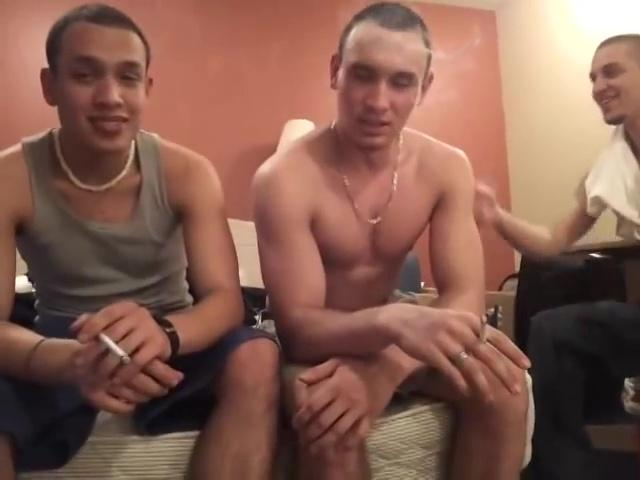cigarette: (96, 330, 135, 366), (480, 311, 489, 344)
